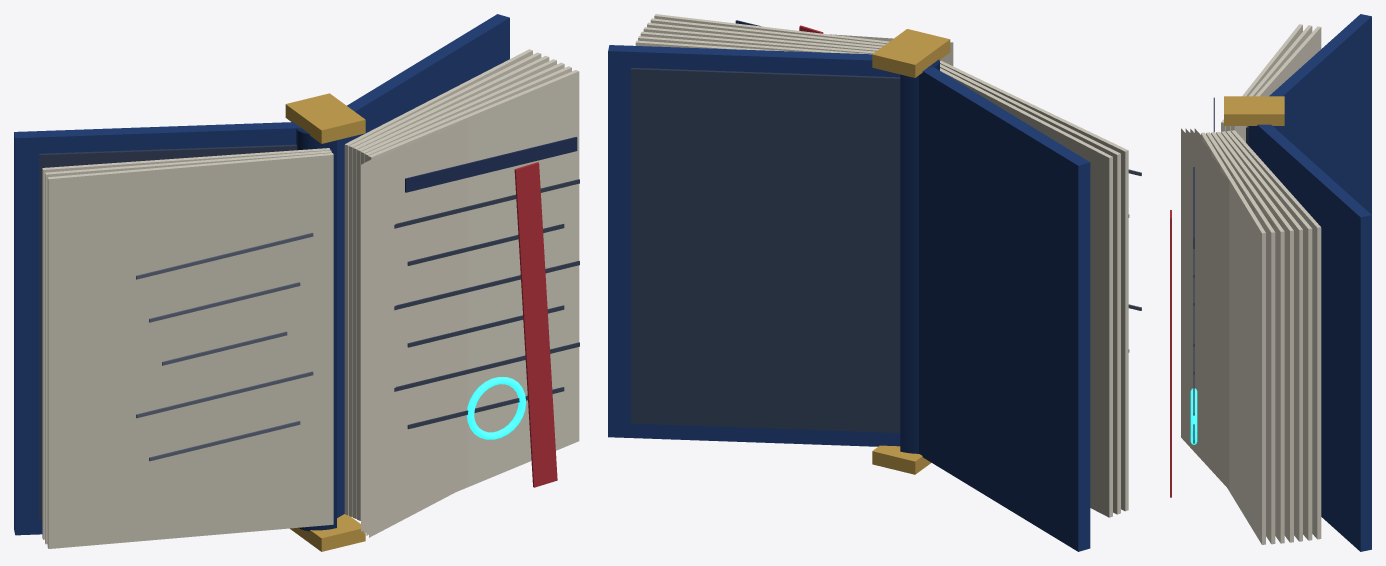
Rendered from open-book.glb.
The picture shows the model from 3 angles, left to right: view 1: azimuth 30°, elevation 25°; view 2: azimuth 150°, elevation 25°; view 3: azimuth 270°, elevation 25°; orthographic projection. The views are drawn at different scales.
Visible parts, largest first — view 1: OpenBook, FlipPage3, CoverLeft, CoverRight, Ribbon, FlipPage1, FlipPage2, Diagram, FlipPage0; view 2: CoverRight, CoverLeft, OpenBook; view 3: OpenBook, CoverRight, FlipPage3, CoverLeft, Ribbon, Diagram, FlipPage2.
Part boxes in pixels (<box>): OpenBook: <box>42,49,579,551</box>; FlipPage3: <box>369,91,520,537</box>; CoverLeft: <box>14,122,300,535</box>; CoverRight: <box>337,14,509,517</box>; Ribbon: <box>514,162,557,487</box>; FlipPage1: <box>363,89,511,533</box>; FlipPage2: <box>366,74,546,535</box>; Diagram: <box>467,377,526,439</box>; FlipPage0: <box>361,70,541,531</box>; CoverRight: <box>608,45,900,446</box>; CoverLeft: <box>919,65,1090,551</box>; OpenBook: <box>635,14,1141,517</box>; OpenBook: <box>1193,24,1321,544</box>; CoverRight: <box>1248,124,1371,551</box>; FlipPage3: <box>1181,128,1254,489</box>; CoverLeft: <box>1246,14,1371,214</box>; Ribbon: <box>1170,210,1171,497</box>; Diagram: <box>1190,388,1197,444</box>; FlipPage2: <box>1185,128,1273,228</box>.
Bounding box in the file's own units: 1.96 × 1.55 × 0.7986.
